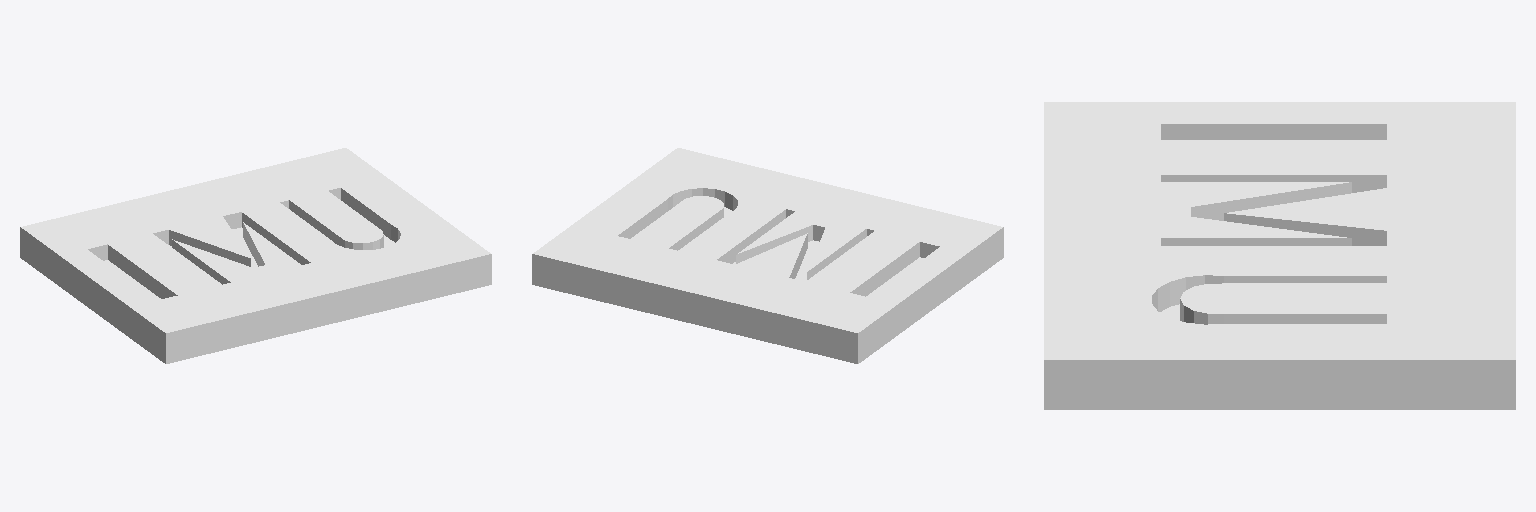
The robot description file, URDF, robot "lide":
<?xml version="1.0" encoding="utf-8"?>
<!-- This URDF was automatically created by SolidWorks to URDF Exporter! Originally created by [author] ([email redacted]) 
     Commit Version: 1.5.1-0-g916b5db  Build Version: 1.5.7152.31018
     For more information, please see http://wiki.ros.org/sw_urdf_exporter -->
<robot
  name="lide">
  <link
    name="base_link">
    <inertial>
      <origin
        xyz="0.10683 0.11719 0.069801"
        rpy="0 0 0" />
      <mass
        value="3.0098" />
      <inertia
        ixx="0.005814"
        ixy="4.3391E-07"
        ixz="-4.291E-07"
        iyy="0.0067269"
        iyz="-7.9314E-06"
        izz="0.011765" />
    </inertial>
    <visual>
      <origin
        xyz="0 0 0"
        rpy="0 0 0" />
      <geometry>
        <mesh
          filename="package://lide/meshes/base_link.STL" />
      </geometry>
      <material
        name="">
        <color
          rgba="0.75294 0.75294 0.75294 1" />
      </material>
    </visual>
    <collision>
      <origin
        xyz="0 0 0"
        rpy="0 0 0" />
      <geometry>
        <mesh
          filename="package://lide/meshes/base_link.STL" />
      </geometry>
    </collision>
  </link>
  <link
    name="LFS">
    <inertial>
      <origin
        xyz="0.0455604268709419 0.00830943309140332 0.00297622851896683"
        rpy="0 0 0" />
      <mass
        value="0.0727928435161986" />
      <inertia
        ixx="2.20927876796312E-05"
        ixy="-1.64845302056396E-08"
        ixz="-1.56454773175215E-07"
        iyy="1.62632133784213E-05"
        iyz="2.96411876511183E-09"
        izz="1.80843397531752E-05" />
    </inertial>
    <visual>
      <origin
        xyz="0 0 0"
        rpy="0 0 0" />
      <geometry>
        <mesh
          filename="package://lide/meshes/LFS.STL" />
      </geometry>
      <material
        name="">
        <color
          rgba="0.752941176470588 0.752941176470588 0.752941176470588 1" />
      </material>
    </visual>
    <collision>
      <origin
        xyz="0 0 0"
        rpy="0 0 0" />
      <geometry>
        <mesh
          filename="package://lide/meshes/LFS.STL" />
      </geometry>
    </collision>
  </link>
  <joint
    name="LFS"
    type="fixed">
    <origin
      xyz="0.20441 0.054044 -0.014503"
      rpy="1.5708 0 0" />
    <parent
      link="base_link" />
    <child
      link="LFS" />
    <axis
      xyz="0 0 0" />
  </joint>
  <link
    name="LFW">
    <inertial>
      <origin
        xyz="0.015 3.4694E-18 6.9389E-18"
        rpy="0 0 0" />
      <mass
        value="0.28979" />
      <inertia
        ixx="0.00043983"
        ixy="-2.0986E-37"
        ixz="2.6599E-37"
        iyy="0.00024165"
        iyz="-1.3553E-20"
        izz="0.00024165" />
    </inertial>
    <visual>
      <origin
        xyz="0 0 0"
        rpy="0 0 0" />
      <geometry>
        <mesh
          filename="package://lide/meshes/LFW.STL" />
      </geometry>
      <material
        name="">
        <color
          rgba="1 1 1 1" />
      </material>
    </visual>
    <collision>
      <origin
        xyz="0 0 0"
        rpy="0 0 0" />
      <geometry>
        <mesh
          filename="package://lide/meshes/LFW.STL" />
      </geometry>
    </collision>
  </link>
  <joint
    name="LFW"
    type="continuous">
    <origin
      xyz="0.063346 -0.006798 0.015044"
      rpy="-0.70365 0 0" />
    <parent
      link="LFS" />
    <child
      link="LFW" />
    <axis
      xyz="1 0 0" />
  </joint>
  <link
    name="RFS">
    <inertial>
      <origin
        xyz="-0.019183 -0.0090093 0.052006"
        rpy="0 0 0" />
      <mass
        value="0.072793" />
      <inertia
        ixx="2.2093E-05"
        ixy="-1.6485E-08"
        ixz="1.5645E-07"
        iyy="1.6263E-05"
        iyz="-2.9641E-09"
        izz="1.8084E-05" />
    </inertial>
    <visual>
      <origin
        xyz="0 0 0"
        rpy="0 0 0" />
      <geometry>
        <mesh
          filename="package://lide/meshes/RFS.STL" />
      </geometry>
      <material
        name="">
        <color
          rgba="0.75294 0.75294 0.75294 1" />
      </material>
    </visual>
    <collision>
      <origin
        xyz="0 0 0"
        rpy="0 0 0" />
      <geometry>
        <mesh
          filename="package://lide/meshes/RFS.STL" />
      </geometry>
    </collision>
  </link>
  <joint
    name="RFS"
    type="fixed">
    <origin
      xyz="-0.020784 0.10307 0.0027844"
      rpy="1.5708 0 0" />
    <parent
      link="base_link" />
    <child
      link="RFS" />
    <axis
      xyz="0 0 0" />
  </joint>
  <link
    name="RFW">
    <inertial>
      <origin
        xyz="-0.015 0 0"
        rpy="0 0 0" />
      <mass
        value="0.28979" />
      <inertia
        ixx="0.00043983"
        ixy="-4.6524E-37"
        ixz="1.7402E-39"
        iyy="0.00024165"
        iyz="3.024E-39"
        izz="0.00024165" />
    </inertial>
    <visual>
      <origin
        xyz="0 0 0"
        rpy="0 0 0" />
      <geometry>
        <mesh
          filename="package://lide/meshes/RFW.STL" />
      </geometry>
      <material
        name="">
        <color
          rgba="1 1 1 1" />
      </material>
    </visual>
    <collision>
      <origin
        xyz="0 0 0"
        rpy="0 0 0" />
      <geometry>
        <mesh
          filename="package://lide/meshes/RFW.STL" />
      </geometry>
    </collision>
  </link>
  <joint
    name="RFW"
    type="continuous">
    <origin
      xyz="-0.036969 -0.024084 0.064073"
      rpy="0 0 0" />
    <parent
      link="RFS" />
    <child
      link="RFW" />
    <axis
      xyz="1 0 0" />
    <limit
      effort="3.1"
      velocity="7" />
  </joint>
  <link
    name="LBS">
    <inertial>
      <origin
        xyz="0 -0.045029 0"
        rpy="0 0 0" />
      <mass
        value="0.44204" />
      <inertia
        ixx="0.00028466"
        ixy="8.4824E-23"
        ixz="-7.0058E-22"
        iyy="0.00017531"
        iyz="1.4317E-21"
        izz="0.0002841" />
    </inertial>
    <visual>
      <origin
        xyz="0 0 0"
        rpy="0 0 0" />
      <geometry>
        <mesh
          filename="package://lide/meshes/LBS.STL" />
      </geometry>
      <material
        name="">
        <color
          rgba="0.89804 0.91765 0.92941 1" />
      </material>
    </visual>
    <collision>
      <origin
        xyz="0 0 0"
        rpy="0 0 0" />
      <geometry>
        <mesh
          filename="package://lide/meshes/LBS.STL" />
      </geometry>
    </collision>
  </link>
  <joint
    name="LBS"
    type="fixed">
    <origin
      xyz="0.25 0.202 0.0087742"
      rpy="1.5708 0 0" />
    <parent
      link="base_link" />
    <child
      link="LBS" />
    <axis
      xyz="0 0 0" />
  </joint>
  <link
    name="RBS">
    <inertial>
      <origin
        xyz="0 -0.045029 -2.7756E-17"
        rpy="0 0 0" />
      <mass
        value="0.44204" />
      <inertia
        ixx="0.00028466"
        ixy="-1.2721E-21"
        ixz="-4.8787E-23"
        iyy="0.00017531"
        iyz="1.5376E-21"
        izz="0.0002841" />
    </inertial>
    <visual>
      <origin
        xyz="0 0 0"
        rpy="0 0 0" />
      <geometry>
        <mesh
          filename="package://lide/meshes/RBS.STL" />
      </geometry>
      <material
        name="">
        <color
          rgba="0.89804 0.91765 0.92941 1" />
      </material>
    </visual>
    <collision>
      <origin
        xyz="0 0 0"
        rpy="0 0 0" />
      <geometry>
        <mesh
          filename="package://lide/meshes/RBS.STL" />
      </geometry>
    </collision>
  </link>
  <joint
    name="RBS"
    type="fixed">
    <origin
      xyz="-0.040003 0.202 0.0087742"
      rpy="1.5708 0 0" />
    <parent
      link="base_link" />
    <child
      link="RBS" />
    <axis
      xyz="0 0 0" />
  </joint>
  <link
    name="fcam">
    <inertial>
      <origin
        xyz="0.00044553 -1.1063E-05 0.0012982"
        rpy="0 0 0" />
      <mass
        value="0.043612" />
      <inertia
        ixx="2.3571E-05"
        ixy="-1.0181E-09"
        ixz="2.1758E-08"
        iyy="4.2948E-06"
        iyz="-8.8579E-10"
        izz="2.2106E-05" />
    </inertial>
    <visual>
      <origin
        xyz="0 0 0"
        rpy="0 0 0" />
      <geometry>
        <mesh
          filename="package://lide/meshes/fcam.STL" />
      </geometry>
      <material
        name="">
        <color
          rgba="0.79216 0.81961 0.93333 1" />
      </material>
    </visual>
    <collision>
      <origin
        xyz="0 0 0"
        rpy="0 0 0" />
      <geometry>
        <mesh
          filename="package://lide/meshes/fcam.STL" />
      </geometry>
    </collision>
  </link>
  <joint
    name="fcam"
    type="fixed">
    <origin
      xyz="0.10501 0.012 0.15699"
      rpy="0 0 -1.5708" />
    <parent
      link="base_link" />
    <child
      link="fcam" />
    <axis
      xyz="0 0 0" />
  </joint>
  <link
    name="bcam">
    <inertial>
      <origin
        xyz="0.00044553 -1.1063E-05 0.0012982"
        rpy="0 0 0" />
      <mass
        value="0.043612" />
      <inertia
        ixx="2.3571E-05"
        ixy="-1.0183E-09"
        ixz="2.1758E-08"
        iyy="4.2948E-06"
        iyz="-8.8548E-10"
        izz="2.2106E-05" />
    </inertial>
    <visual>
      <origin
        xyz="0 0 0"
        rpy="0 0 0" />
      <geometry>
        <mesh
          filename="package://lide/meshes/bcam.STL" />
      </geometry>
      <material
        name="">
        <color
          rgba="0.79216 0.81961 0.93333 1" />
      </material>
    </visual>
    <collision>
      <origin
        xyz="0 0 0"
        rpy="0 0 0" />
      <geometry>
        <mesh
          filename="package://lide/meshes/bcam.STL" />
      </geometry>
    </collision>
  </link>
  <joint
    name="bcam"
    type="fixed">
    <origin
      xyz="0.10501 0.020581 0.12171"
      rpy="0 0.7854 -1.5708" />
    <parent
      link="base_link" />
    <child
      link="bcam" />
    <axis
      xyz="0 0 0" />
  </joint>
  <link
    name="Lidar">
    <inertial>
      <origin
        xyz="0.013523 0.00046196 -0.028765"
        rpy="0 0 0" />
      <mass
        value="0.073085" />
      <inertia
        ixx="1.9581E-05"
        ixy="-1.0393E-07"
        ixz="-4.2839E-07"
        iyy="2.4125E-05"
        iyz="9.4271E-09"
        izz="4.1418E-05" />
    </inertial>
    <visual>
      <origin
        xyz="0 0 0"
        rpy="0 0 0" />
      <geometry>
        <mesh
          filename="package://lide/meshes/Lidar.STL" />
      </geometry>
      <material
        name="">
        <color
          rgba="0.79216 0.81961 0.93333 1" />
      </material>
    </visual>
    <collision>
      <origin
        xyz="0 0 0"
        rpy="0 0 0" />
      <geometry>
        <mesh
          filename="package://lide/meshes/Lidar.STL" />
      </geometry>
    </collision>
  </link>
  <joint
    name="Lidar"
    type="fixed">
    <origin
      xyz="0.10401 0.19458 0.2285"
      rpy="0 0 -1.5708" />
    <parent
      link="base_link" />
    <child
      link="Lidar" />
    <axis
      xyz="0 0 0" />
  </joint>
  <link
    name="imu_link">
    <inertial>
      <origin
        xyz="-0.028765 -0.028765 -0.028765"
        rpy="0 0 0" />
      <mass
        value="0.03" />
      <inertia
        ixx="2.2106E-05"
        ixy="2.2106E-05"
        ixz="2.2106E-05"
        iyy="2.2106E-05"
        iyz="2.2106E-05"
        izz="2.2106E-05" />
    </inertial>
    <visual>
      <origin
        xyz="0 0 0"
        rpy="0 0 0" />
      <geometry>
        <mesh
          filename="package://lide/meshes/imu_link.STL" />
      </geometry>
      <material
        name="">
        <color
          rgba="1 1 1 1" />
      </material>
    </visual>
    <collision>
      <origin
        xyz="0 0 0"
        rpy="0 0 0" />
      <geometry>
        <mesh
          filename="package://lide/meshes/imu_link.STL" />
      </geometry>
    </collision>
  </link>
  <joint
    name="imu_link"
    type="fixed">
    <origin
      xyz="0.105 0.039 0.177"
      rpy="0 0 -1.5708" />
    <parent
      link="base_link" />
    <child
      link="imu_link" />
    <axis
      xyz="0 0 0" />
  </joint>
</robot>

--- Render facts (derived) ---
Views: 3 orthographic renders of the robot side by side, from view 1: azimuth 30°, elevation 25°; view 2: azimuth 150°, elevation 25°; view 3: azimuth 270°, elevation 25°.
Model lide with 11 links and 10 joints (2 continuous, 8 fixed), rooted at base_link, posed all joints at 0.
Visible links, largest first — view 1: imu_link; view 2: imu_link; view 3: imu_link.
Link boxes in pixels (x1,y1,x2,y2): imu_link: (20, 148, 491, 363); imu_link: (532, 148, 1003, 363); imu_link: (1044, 102, 1515, 409).
Size in the robot's own frame: 0.022 by 0.017 by 0.002 metres.
1 mesh visuals loaded from 11 distinct referenced files (1 binary STL); not drawn: 10 (reference not matched to a file when rendering).